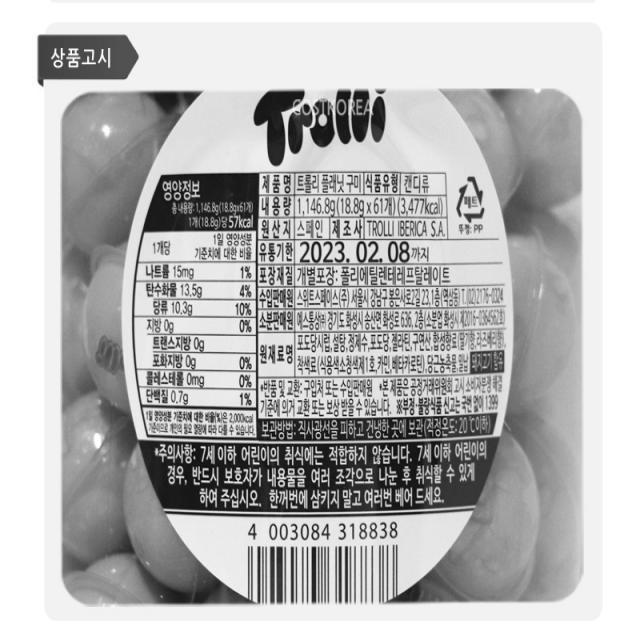Nutrition Label: (126, 164, 260, 453)
